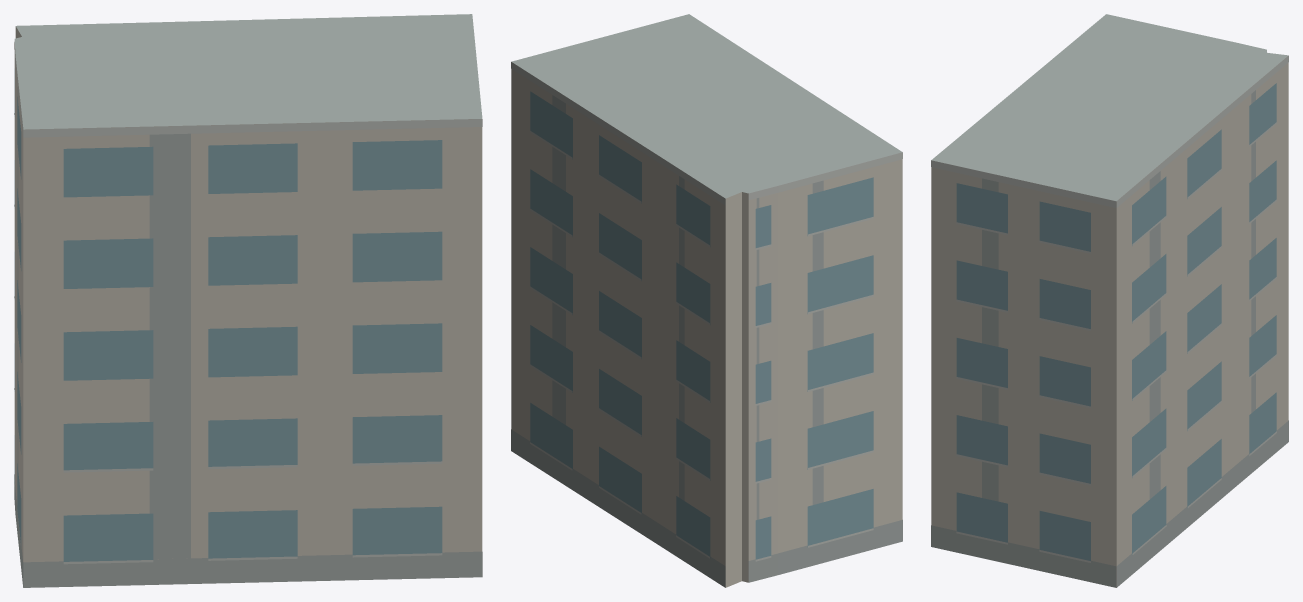
File: survey-upis-32726267.glb
3 renders of one model, left to right at view 1: azimuth 30°, elevation 25°; view 2: azimuth 150°, elevation 25°; view 3: azimuth 270°, elevation 25°, orthographic. The views are drawn at different scales.
Visible parts, largest first — view 1: survey-upis-32726267.tmp; view 2: survey-upis-32726267.tmp; view 3: survey-upis-32726267.tmp.
Part boxes in pixels (box(x1,y1,x2,y2)): survey-upis-32726267.tmp: box(14, 14, 482, 587); survey-upis-32726267.tmp: box(511, 14, 902, 587); survey-upis-32726267.tmp: box(931, 14, 1288, 587).
Bounding box in the file's own units: 14.24 × 13.7 × 11.5.
